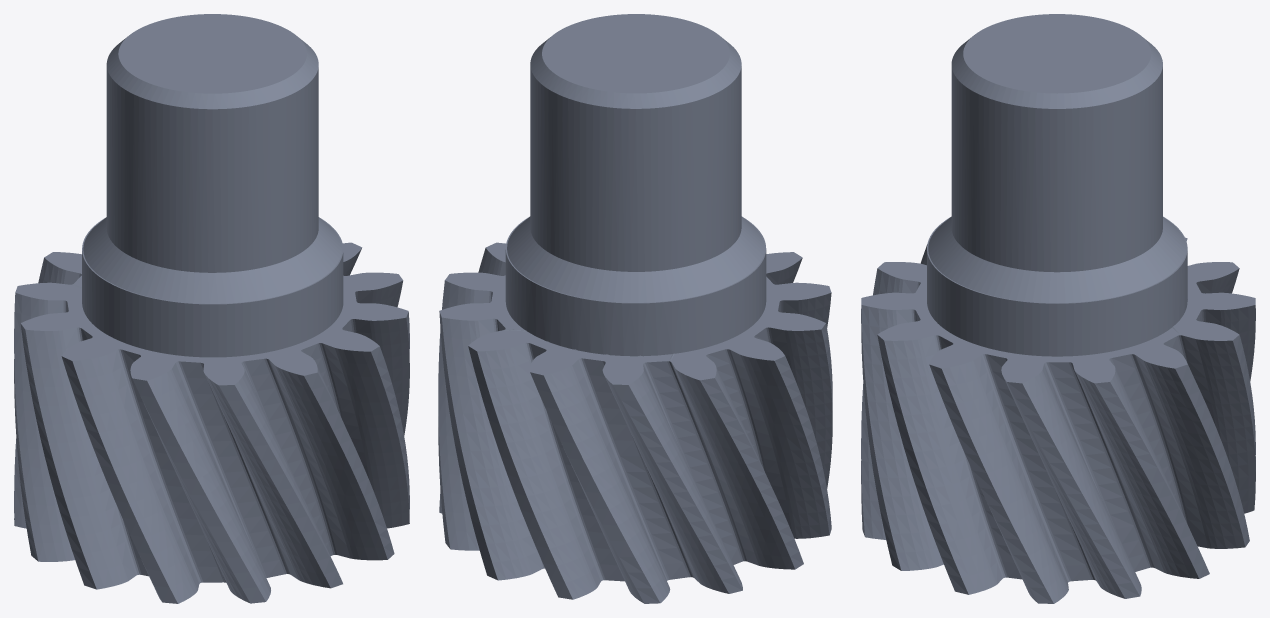
The model's file is smallGear_grey.dae.
3 views of the same model, side by side, from view 1: azimuth 30°, elevation 25°; view 2: azimuth 150°, elevation 25°; view 3: azimuth 270°, elevation 25° (orthographic).
Parts seen in each view (by area): view 1: _c644462798684196e00a6f8; view 2: _c644462798684196e00a6f8; view 3: _c644462798684196e00a6f8.
Part boxes in pixels (box(x1,y1,x2,y2)): _c644462798684196e00a6f8: box(14, 14, 409, 603); _c644462798684196e00a6f8: box(438, 14, 832, 603); _c644462798684196e00a6f8: box(861, 14, 1255, 603).
Size of the model in its own units: 0.0339 by 0.0339 by 0.0442.
